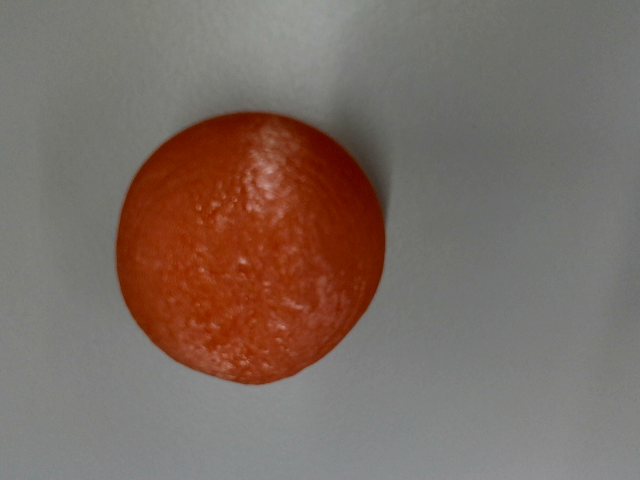orange: (59, 56, 438, 435)
